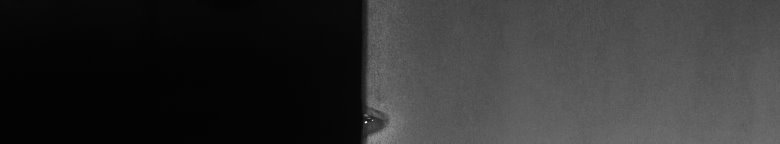hb: (372, 91, 396, 136)
